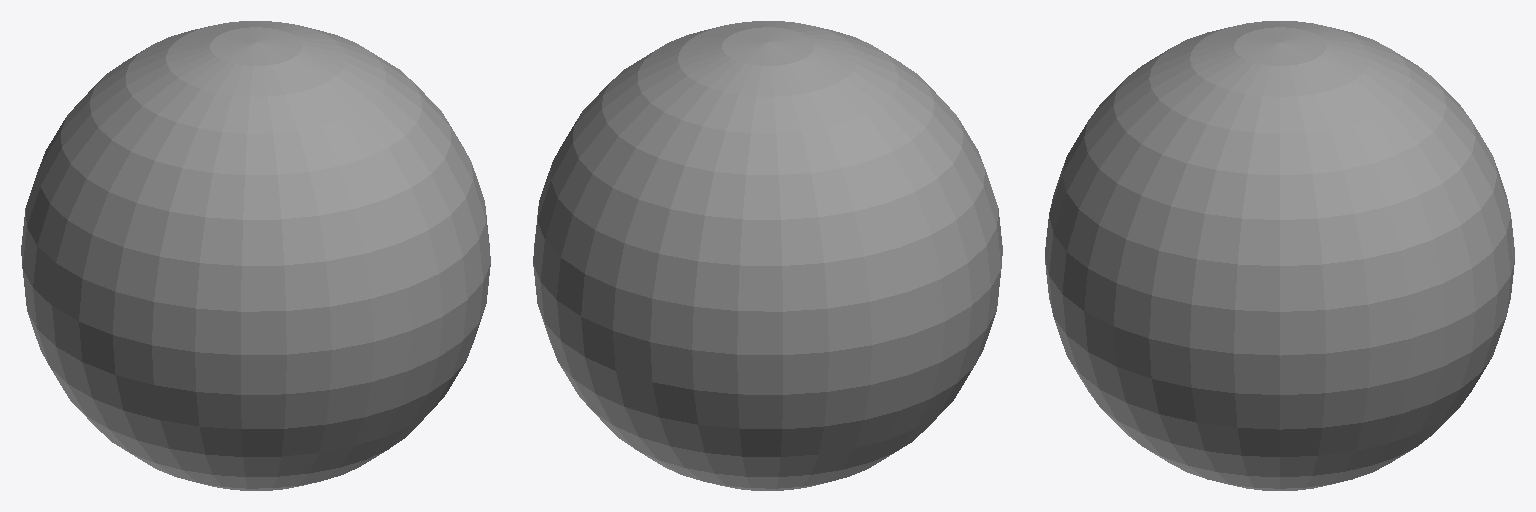
Rendered from neptune.obj.
3 views of the same model, side by side, from view 1: azimuth 30°, elevation 25°; view 2: azimuth 150°, elevation 25°; view 3: azimuth 270°, elevation 25° (orthographic).
Visible parts, largest first — view 1: Netuno_Mesh.006; view 2: Netuno_Mesh.006; view 3: Netuno_Mesh.006.
Boxes of the visible parts, x1,y1,x2,y2 form: Netuno_Mesh.006: [21, 21, 490, 490]; Netuno_Mesh.006: [533, 21, 1002, 490]; Netuno_Mesh.006: [1045, 21, 1514, 490].
Size of the model in its own units: 22.21 by 22.21 by 22.21.